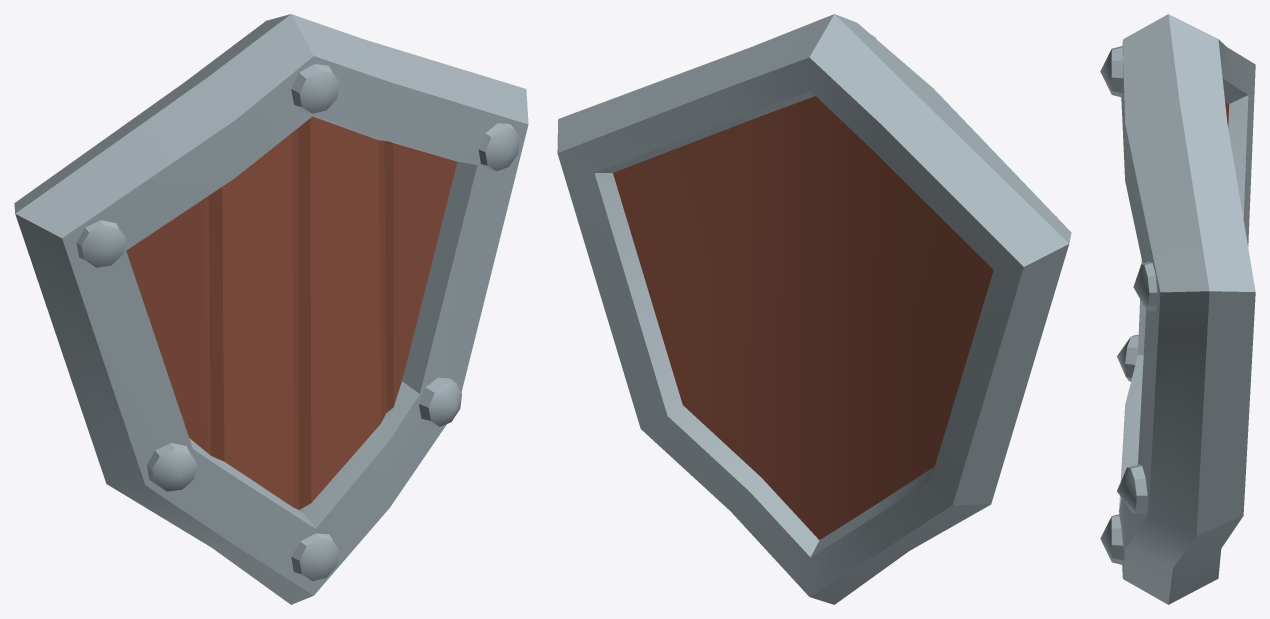
The model's file is shield.gltf.
3 views of the same model, side by side, from view 1: azimuth 30°, elevation 25°; view 2: azimuth 150°, elevation 25°; view 3: azimuth 270°, elevation 25° (orthographic).
Visible parts, largest first — view 1: shield_uncommon; view 2: shield_uncommon; view 3: shield_uncommon.
Part boxes in pixels (x1,y1,x2,y2): shield_uncommon: [14, 14, 528, 604]; shield_uncommon: [557, 14, 1071, 604]; shield_uncommon: [1100, 14, 1255, 604].
Bounding box in the file's own units: 0.7567 × 0.8359 × 0.1993.
